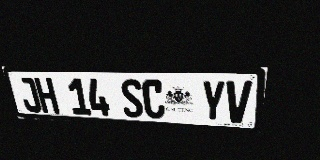1: (66, 78, 91, 115)
4: (85, 78, 111, 116)
C: (141, 79, 165, 119)
H: (34, 77, 60, 114)
J: (16, 77, 43, 113)
S: (119, 79, 144, 118)
V: (225, 80, 252, 124)
Y: (201, 80, 226, 122)
